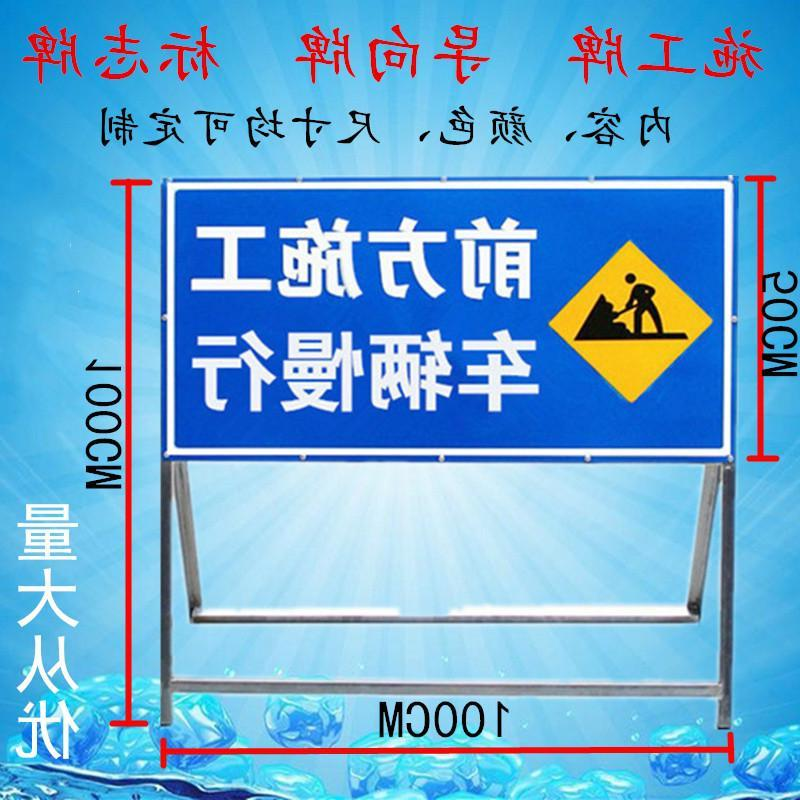sign: (157, 177, 734, 462)
